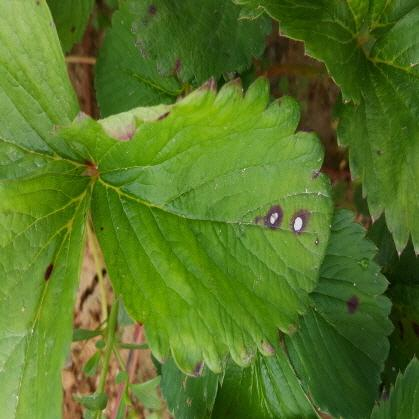Leaf Spot: (88, 72, 334, 378), (0, 156, 98, 418), (279, 208, 395, 418), (328, 4, 418, 259), (0, 0, 82, 183), (129, 0, 275, 87), (370, 354, 418, 418), (48, 0, 98, 54)
